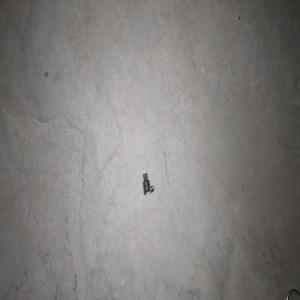MetalPart: (142, 172, 154, 195)
